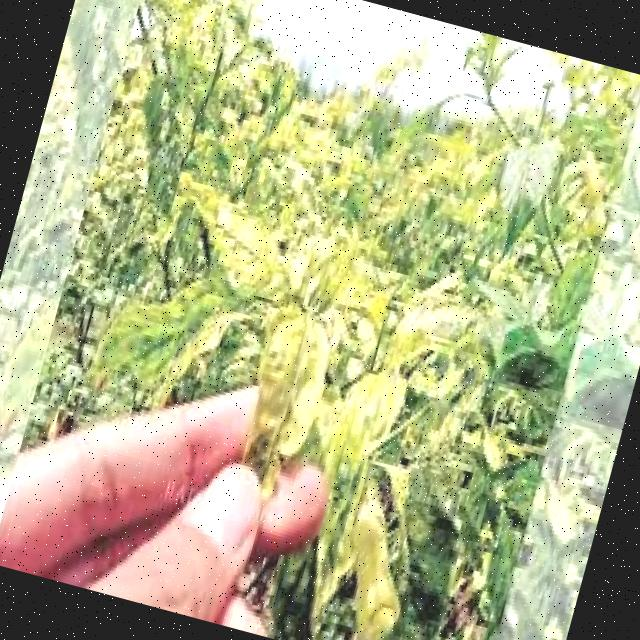yellow: (19, 0, 572, 554)
